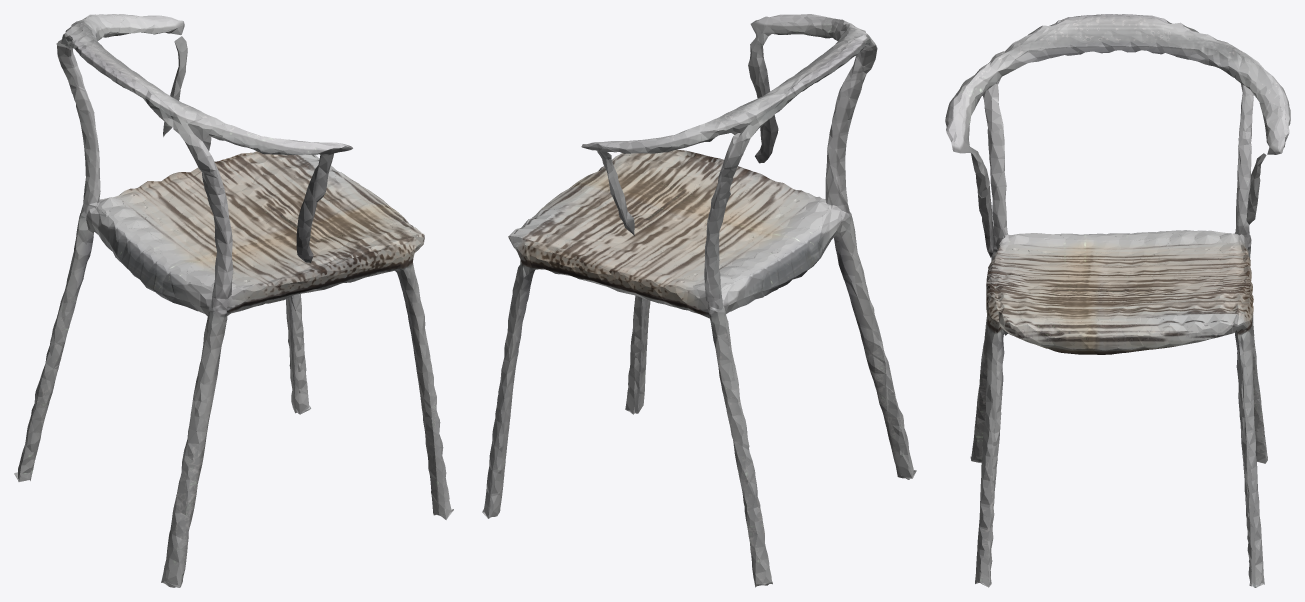
File: elem_115_131_206_213_9_7.obj
The picture shows the model from 3 angles, left to right: view 1: azimuth 30°, elevation 25°; view 2: azimuth 150°, elevation 25°; view 3: azimuth 270°, elevation 25°; orthographic projection. The views are drawn at different scales.
Size of the model in its own units: 0.4476 by 0.6956 by 0.4857.
1 material, 1 textured.
